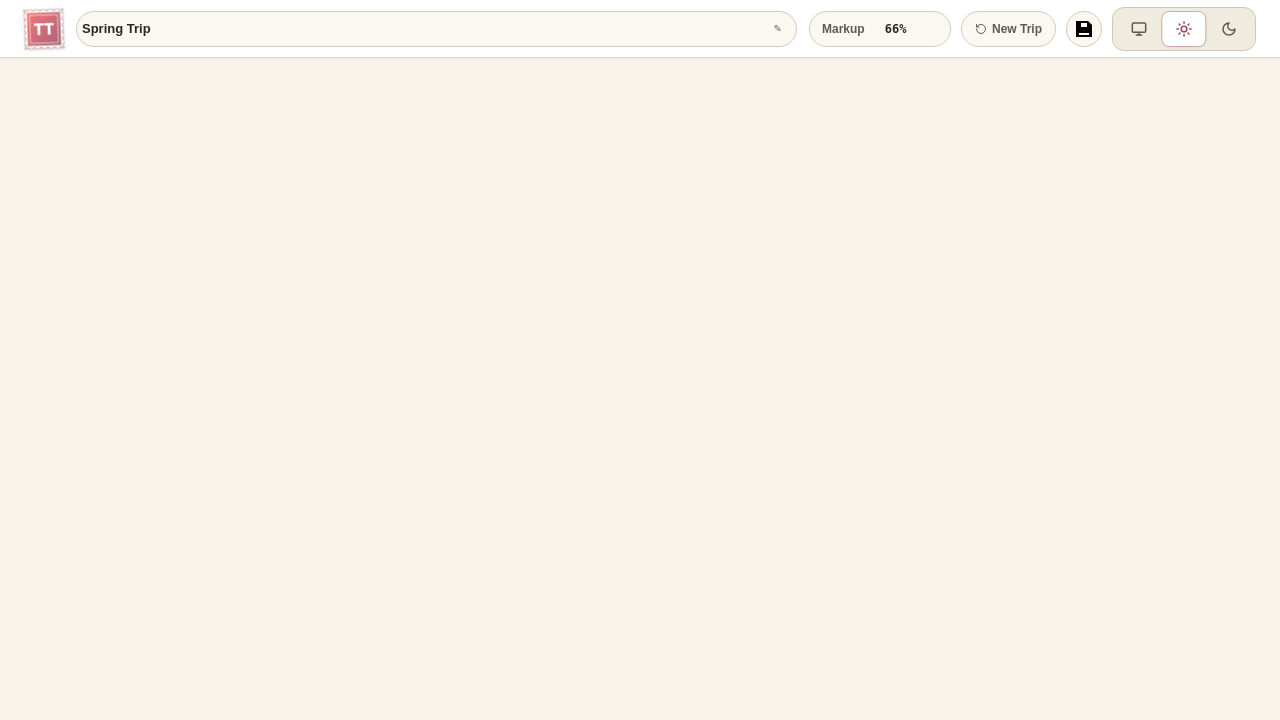
it: Topbar › shows update-save action when a related slot exists
The width and height of the screenshot is (1280, 720).
Click the button "New Trip". click: (1008, 28)
box: top-left (961, 10), bottom-right (1056, 46)
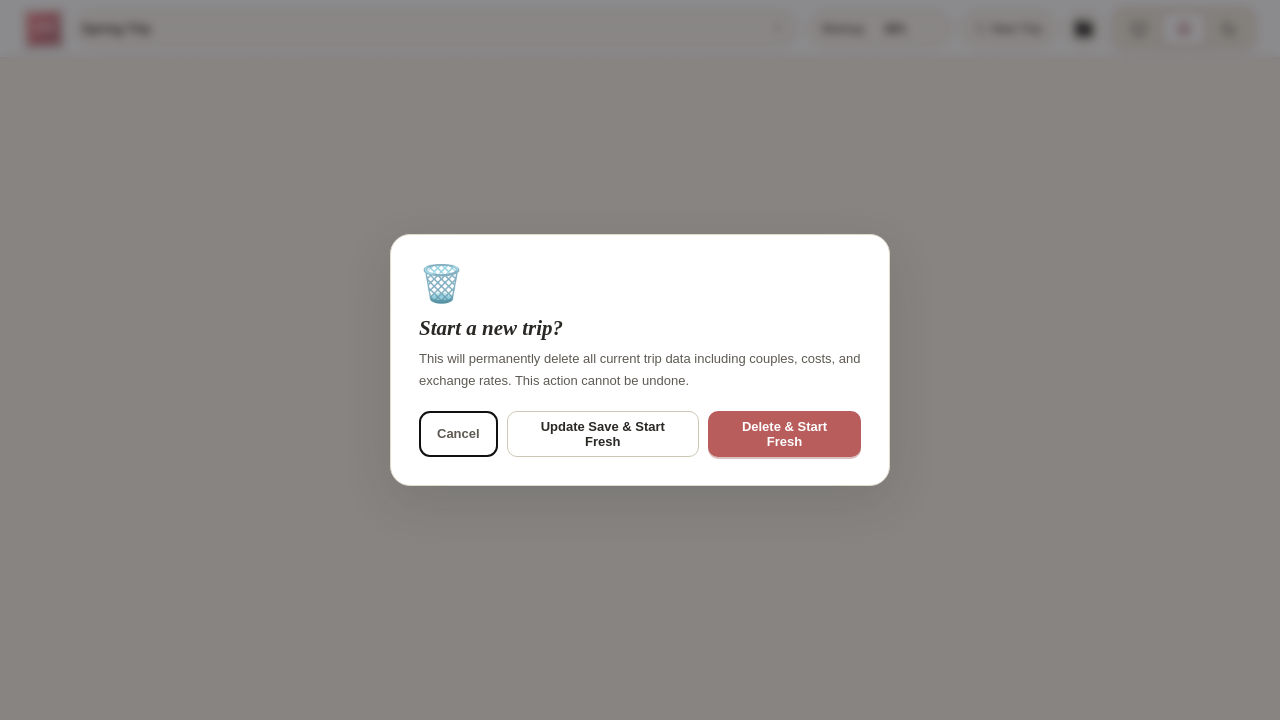
Check: the button "Update Save & Start Fresh" is shown, box top-left (507, 411), bottom-right (699, 457)
